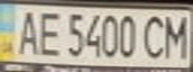0: (118, 11, 142, 60), (100, 11, 121, 58)
4: (81, 10, 103, 58)
5: (63, 9, 87, 57)
A: (12, 7, 42, 56)
C: (139, 11, 169, 61)
E: (33, 7, 63, 57)
M: (160, 11, 193, 60)
